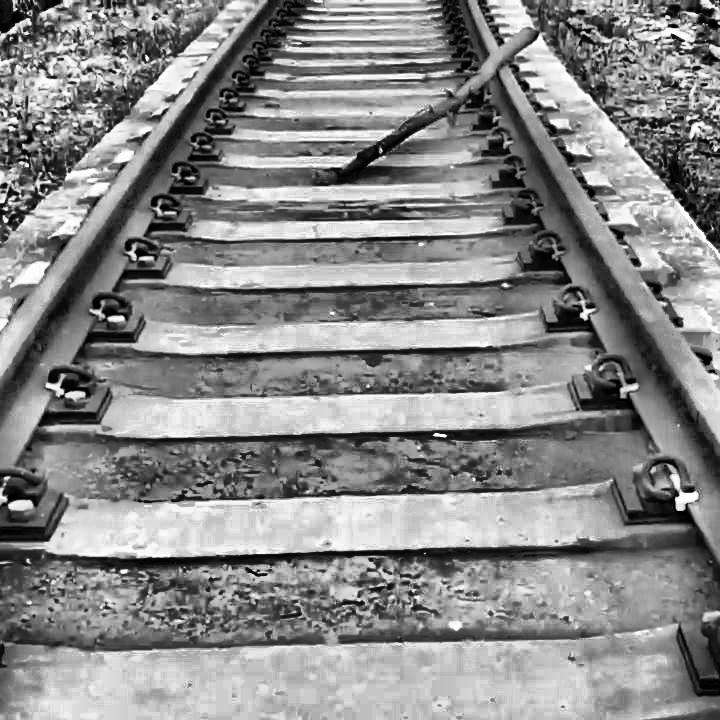Trash: (330, 14, 545, 198)
